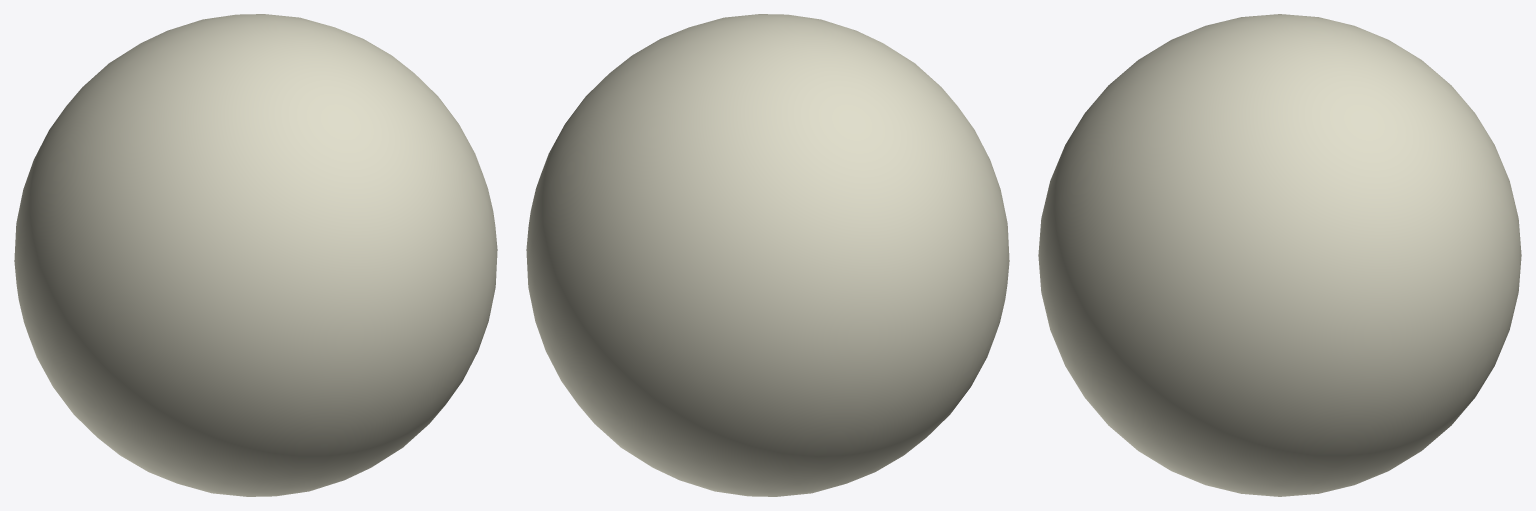
The model's file is Star.fbx.
The picture shows the model from 3 angles, left to right: view 1: azimuth 30°, elevation 25°; view 2: azimuth 150°, elevation 25°; view 3: azimuth 270°, elevation 25°; orthographic projection.
Parts seen in each view (by area): view 1: Star; view 2: Star; view 3: Star.
Part boxes in pixels (<box>): Star: <box>14,14,497,496</box>; Star: <box>526,14,1009,496</box>; Star: <box>1038,14,1521,496</box>.
Size of the model in its own units: 4107 by 4107 by 4107.
